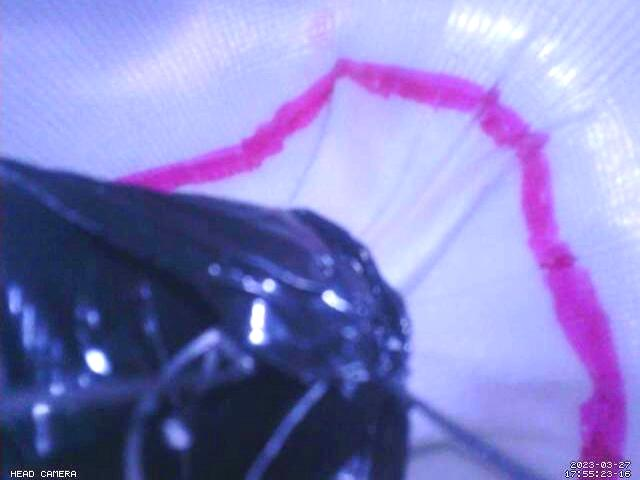red-circle: (114, 57, 628, 480)
